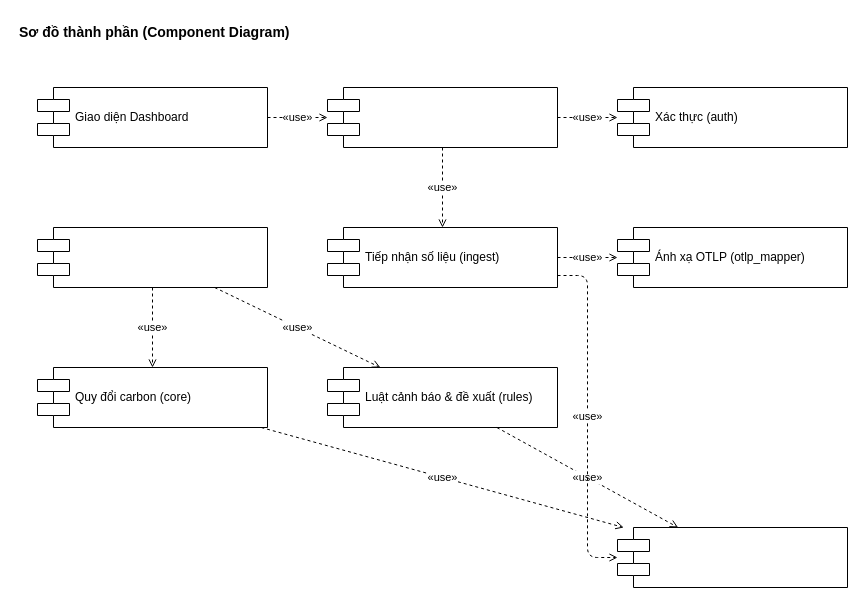
The diagram is 865 pixels wide and 605 high, and some of its shapes have lost their labels. The centre of each missing label's shape, as x and y in pixels:
"API REST (main)" goes at [442,117].
"Lập lịch (jobs)" goes at [152,257].
"Truy cập dữ liệu (db)" goes at [732,557].
